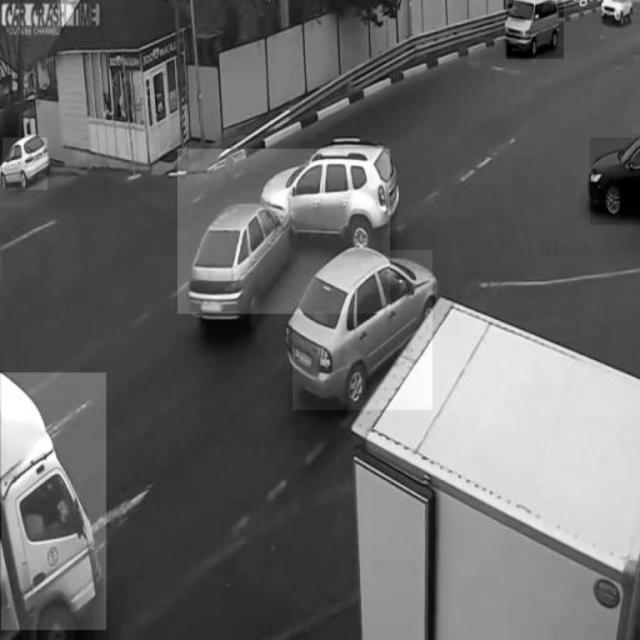accident: (178, 150, 390, 315)
vehicle: (2, 373, 106, 631), (294, 250, 434, 410), (590, 138, 640, 226), (507, 4, 564, 59), (3, 137, 48, 191)
